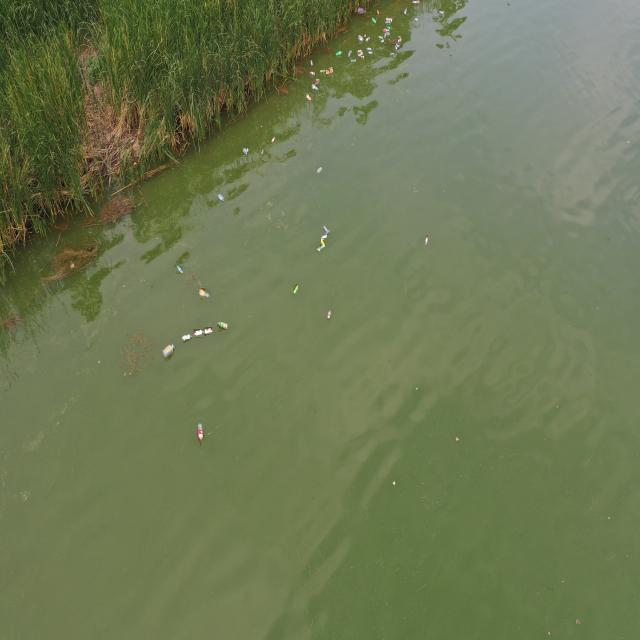Plastic Bottle: (162, 343, 175, 359), (198, 424, 204, 444), (198, 288, 210, 298), (217, 321, 228, 330), (181, 334, 192, 342), (193, 329, 204, 337), (176, 264, 184, 274), (203, 327, 213, 334), (357, 7, 366, 14), (293, 284, 298, 294), (317, 244, 324, 251), (312, 84, 319, 91), (317, 166, 323, 174), (243, 148, 249, 156), (270, 136, 276, 144), (306, 93, 312, 101), (327, 66, 333, 74), (335, 50, 343, 56), (327, 309, 331, 320), (382, 28, 390, 33), (321, 238, 325, 247), (358, 35, 364, 41), (218, 194, 224, 200), (219, 195, 224, 202), (309, 71, 316, 76), (242, 148, 247, 155), (425, 235, 428, 245), (323, 226, 328, 232), (315, 80, 320, 86), (385, 21, 391, 26), (364, 37, 370, 42), (321, 235, 327, 240), (348, 50, 352, 57), (404, 7, 408, 14), (326, 69, 331, 74), (325, 230, 330, 235), (386, 17, 392, 21), (366, 47, 372, 51), (372, 17, 376, 23), (412, 0, 420, 3), (360, 54, 364, 59), (368, 50, 373, 54), (358, 52, 363, 56), (310, 60, 313, 66), (320, 70, 326, 73), (386, 26, 392, 29), (378, 36, 384, 39), (357, 49, 363, 52), (398, 39, 402, 43), (386, 31, 390, 35), (261, 149, 264, 154), (351, 59, 356, 62), (439, 11, 444, 14), (377, 10, 380, 15), (395, 46, 398, 50), (396, 44, 400, 47), (384, 32, 386, 38), (364, 34, 366, 40), (398, 36, 401, 39), (381, 39, 384, 42), (390, 53, 394, 55), (390, 18, 392, 22)
Plastic Waste: (415, 18, 418, 22)
